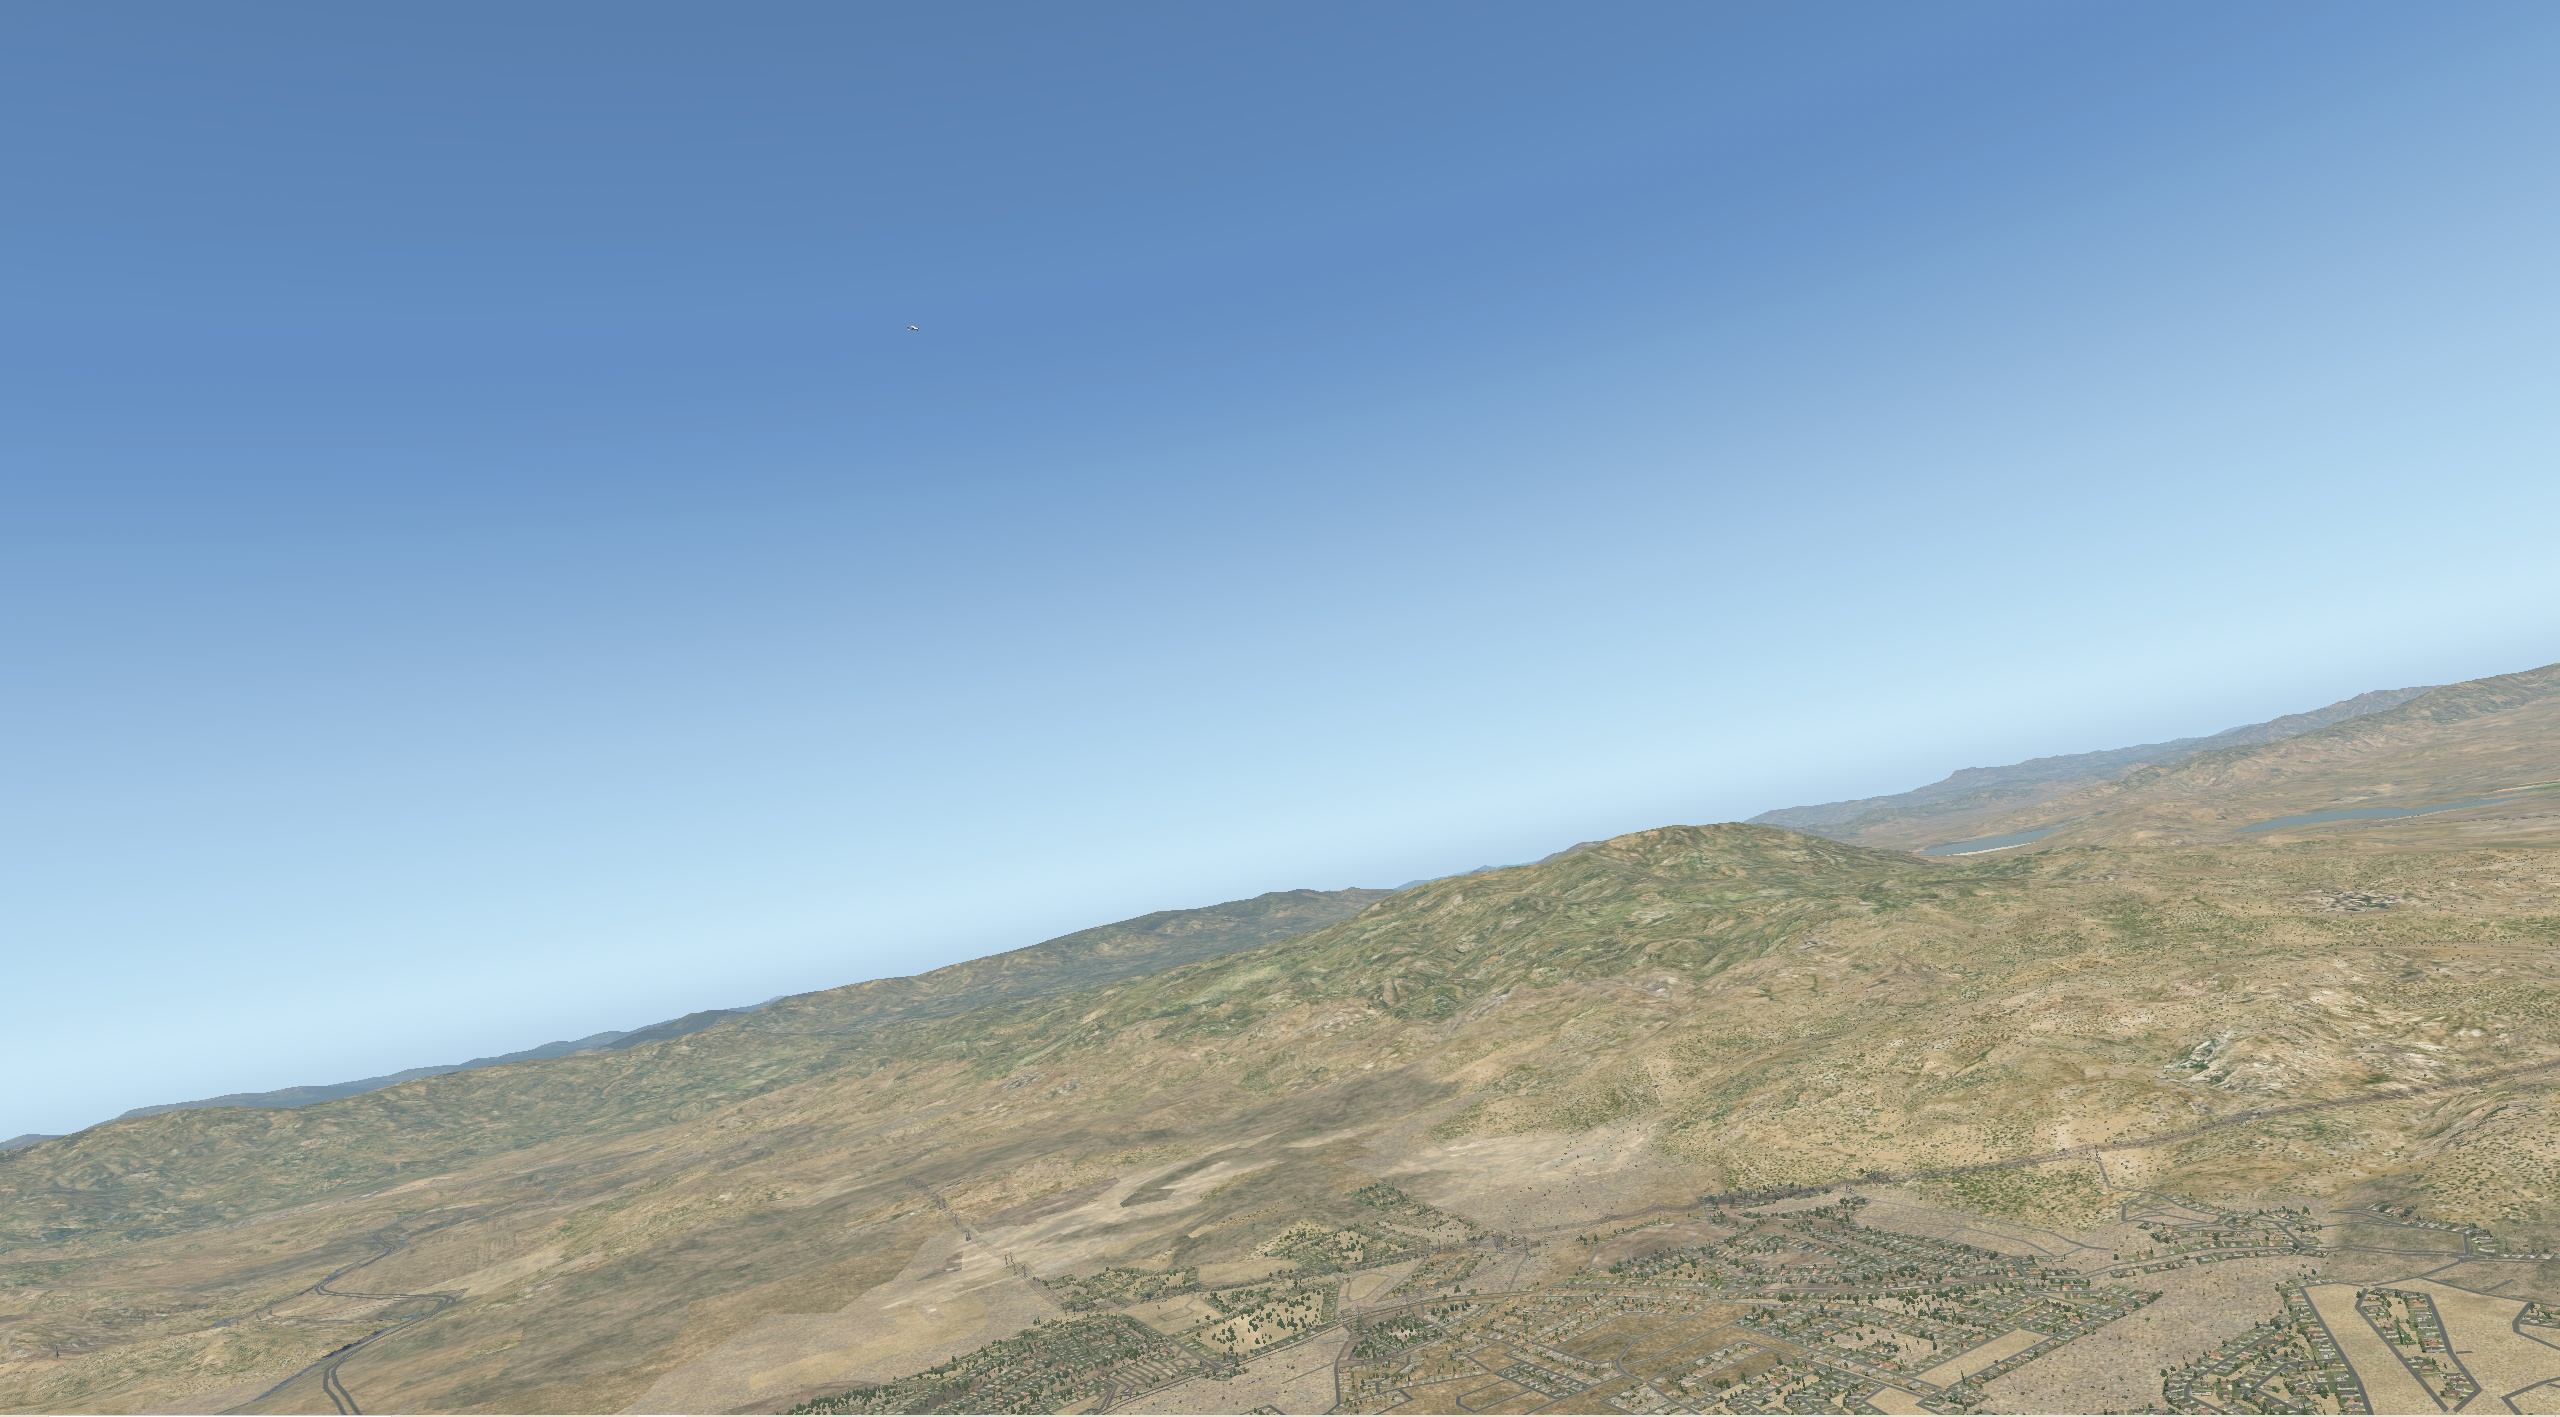aircraft: (906, 325, 925, 332)
